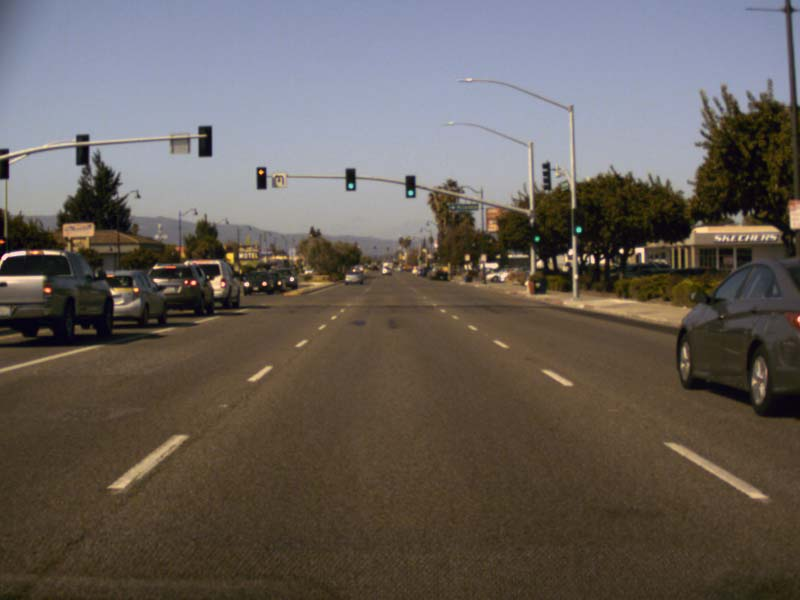Green: (573, 208, 583, 235), (345, 168, 355, 191), (405, 176, 415, 197), (532, 225, 541, 242)
Red: (256, 166, 266, 190)
